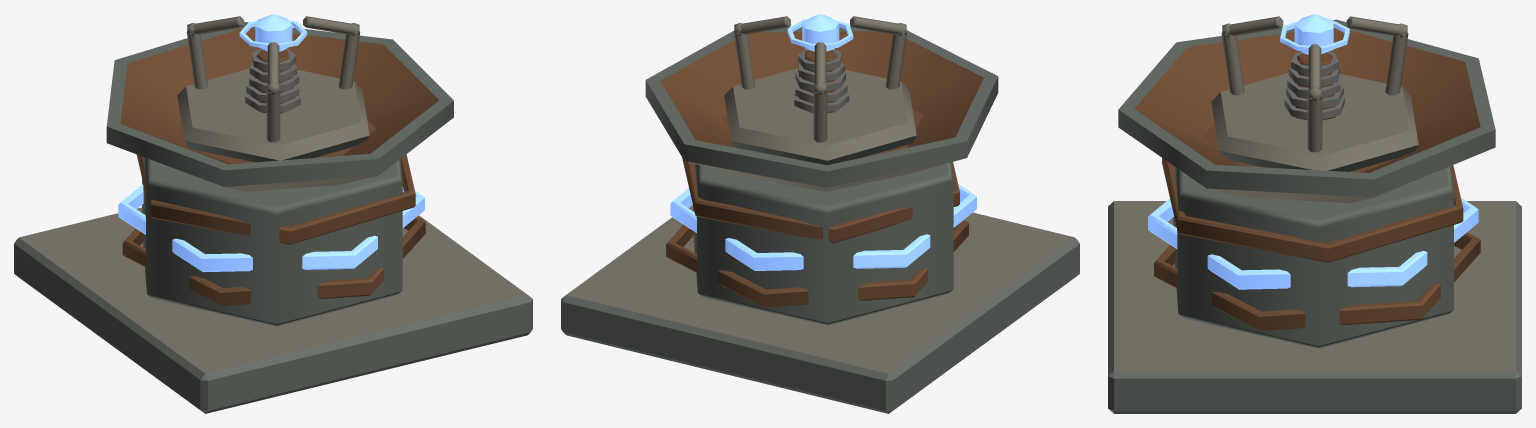
The model's file is R4X_EMPTrapDeployer_LOD1.fbx.
3 views of the same model, side by side, from view 1: azimuth 30°, elevation 25°; view 2: azimuth 150°, elevation 25°; view 3: azimuth 270°, elevation 25° (orthographic). The views are drawn at different scales.
Visible parts, largest first — view 1: R4X_EMPTrapDeployer_LOD1; view 2: R4X_EMPTrapDeployer_LOD1; view 3: R4X_EMPTrapDeployer_LOD1.
Part boxes in pixels (x1,y1,x2,y2): R4X_EMPTrapDeployer_LOD1: (14, 14, 532, 413); R4X_EMPTrapDeployer_LOD1: (561, 14, 1079, 413); R4X_EMPTrapDeployer_LOD1: (1108, 14, 1521, 413).
Bounding box in the file's own units: 0.52 × 0.437 × 0.52.
